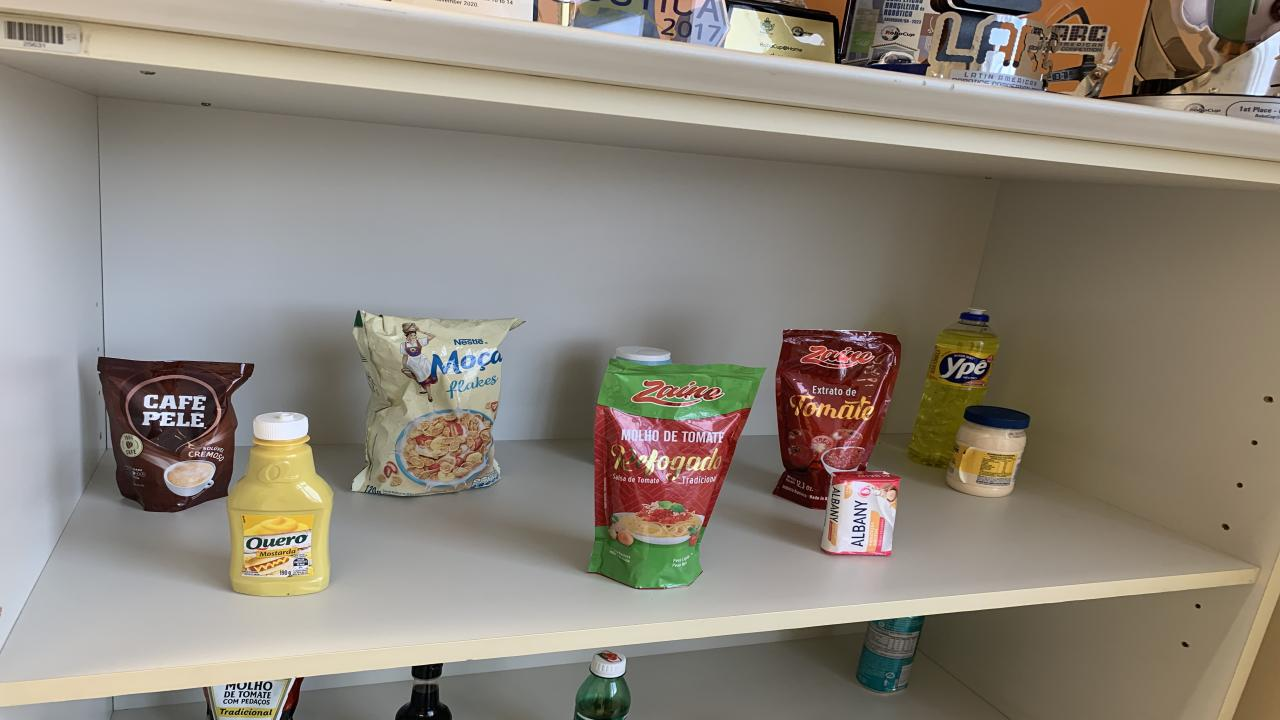Coffee-Pantry_Items: (98, 356, 255, 512)
Detergent-Cleanup_Items: (908, 308, 1000, 467)
English_Sauce-Pantry_Items: (395, 664, 452, 720)
Flakes-Snacks: (352, 311, 522, 495)
Guarana-Drinks: (575, 651, 630, 720)
Mayonnaise-Pantry_Items: (948, 405, 1030, 497)
Mustard-Pantry_Items: (228, 412, 332, 596)
Soap-Cleanup_Items: (820, 471, 900, 555)
Tea-Drinks: (855, 617, 925, 694)
Tomato_Sauce-Pantry_Items: (588, 358, 765, 589), (772, 330, 900, 508), (202, 677, 302, 720)
